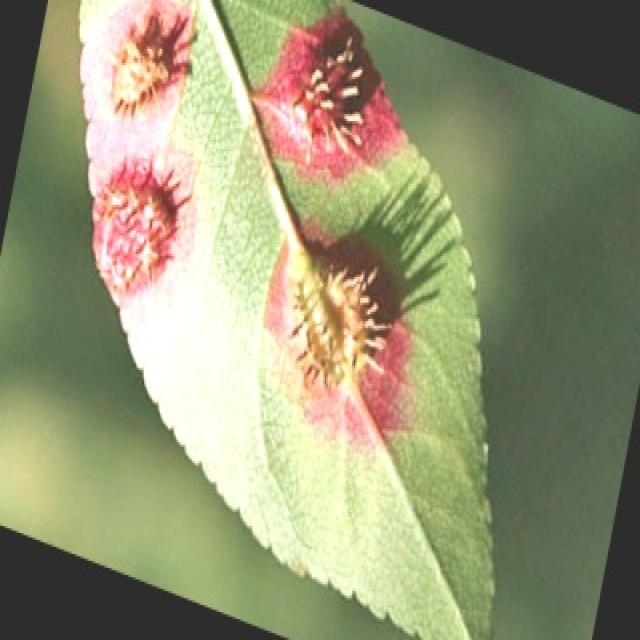Gymnosporangium_Rusts: (74, 0, 498, 638)
